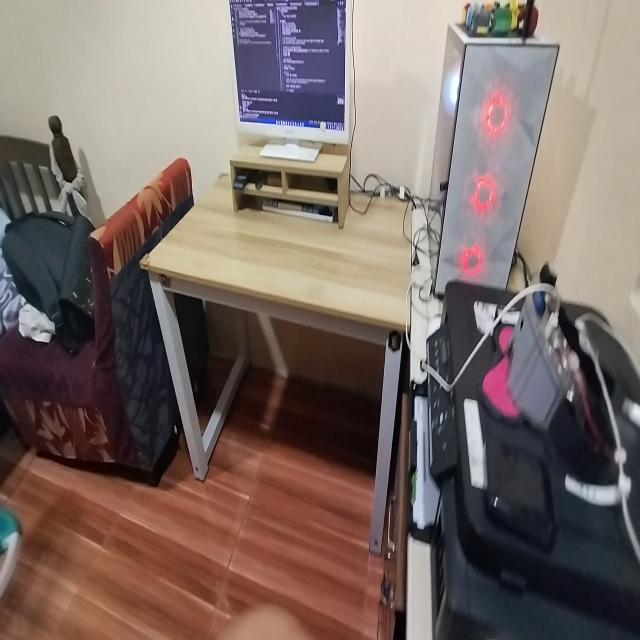table: (155, 153, 422, 558)
